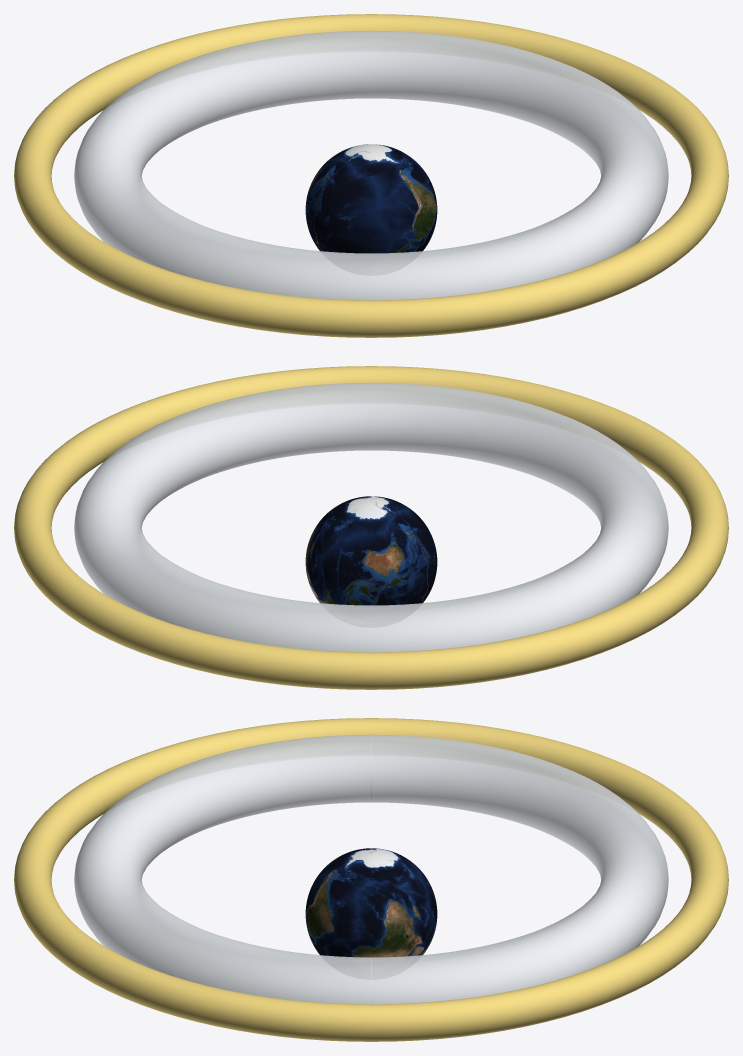
Rendered from cyclone-anticyclone.glb.
The picture shows the model from 3 angles, top to bottom: view 1: azimuth 30°, elevation 25°; view 2: azimuth 150°, elevation 25°; view 3: azimuth 270°, elevation 25°; orthographic projection.
Parts seen in each view (by area): view 1: Cyc_Depression, Cyc_Anticyclone, Cyc_Earth; view 2: Cyc_Depression, Cyc_Anticyclone, Cyc_Earth; view 3: Cyc_Depression, Cyc_Anticyclone, Cyc_Earth.
Part boxes in pixels (x1,y1,x2,y2): Cyc_Depression: [74, 30, 668, 300]; Cyc_Anticyclone: [14, 14, 728, 337]; Cyc_Earth: [305, 144, 437, 253]; Cyc_Depression: [74, 382, 668, 652]; Cyc_Anticyclone: [14, 366, 728, 689]; Cyc_Earth: [305, 496, 437, 605]; Cyc_Depression: [74, 734, 668, 1004]; Cyc_Anticyclone: [14, 718, 728, 1041]; Cyc_Earth: [305, 848, 437, 957].
Bounding box in the file's own units: 3.8 × 0.73 × 3.8.
3 materials, 1 textured.
